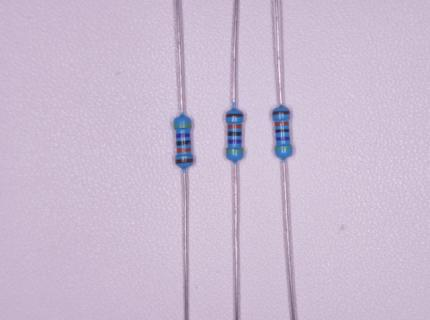Black band: (177, 140, 191, 146), (228, 131, 242, 136), (275, 129, 289, 132)
Brown band: (176, 159, 193, 164), (226, 113, 244, 117), (273, 111, 290, 115)
Orange band: (177, 148, 191, 153), (228, 124, 242, 129), (275, 122, 289, 126)
Violet band: (176, 133, 190, 138), (228, 139, 242, 144), (276, 137, 290, 141)
Yellow band: (174, 124, 191, 128), (226, 149, 243, 153), (275, 147, 292, 150)
